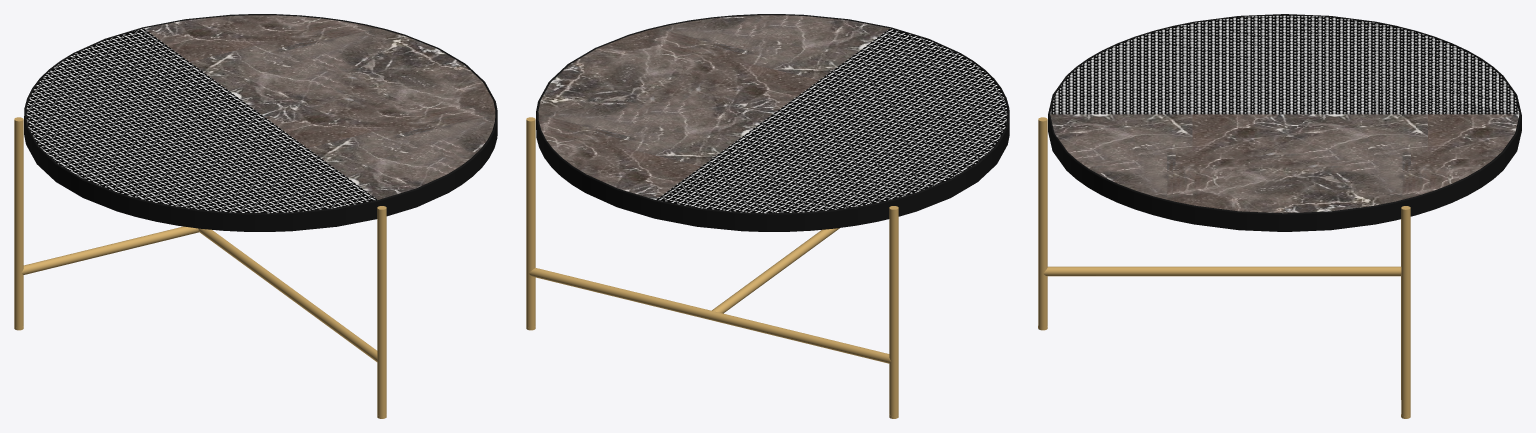
File: furnituretablescider-la-manufactureanato-le-table-basse.fbx
The picture shows the model from 3 angles, left to right: view 1: azimuth 30°, elevation 25°; view 2: azimuth 150°, elevation 25°; view 3: azimuth 270°, elevation 25°; orthographic projection.
Visible parts, largest first — view 1: L_368ec376_8933_4d13_a22a_0c214080808a_C1_I2, L_06294233_0481_4317_8166_74e4e58a44d9_C1_I1, L_9252d441_aeac_42b1_9a6f_2224356eb996_I5, L_479226c4_d389_412d_8de2_3b395ad03e7b_I3; view 2: L_368ec376_8933_4d13_a22a_0c214080808a_C1_I2, L_06294233_0481_4317_8166_74e4e58a44d9_C1_I1, L_9252d441_aeac_42b1_9a6f_2224356eb996_I5, L_479226c4_d389_412d_8de2_3b395ad03e7b_I3; view 3: L_06294233_0481_4317_8166_74e4e58a44d9_C1_I1, L_368ec376_8933_4d13_a22a_0c214080808a_C1_I2, L_9252d441_aeac_42b1_9a6f_2224356eb996_I5, L_479226c4_d389_412d_8de2_3b395ad03e7b_I3.
Part boxes in pixels (x1,y1,x2,y2): L_368ec376_8933_4d13_a22a_0c214080808a_C1_I2: [144, 15, 495, 199]; L_06294233_0481_4317_8166_74e4e58a44d9_C1_I1: [26, 28, 377, 213]; L_9252d441_aeac_42b1_9a6f_2224356eb996_I5: [24, 14, 497, 231]; L_479226c4_d389_412d_8de2_3b395ad03e7b_I3: [14, 117, 386, 416]; L_368ec376_8933_4d13_a22a_0c214080808a_C1_I2: [538, 15, 889, 199]; L_06294233_0481_4317_8166_74e4e58a44d9_C1_I1: [656, 28, 1007, 213]; L_9252d441_aeac_42b1_9a6f_2224356eb996_I5: [536, 14, 1009, 231]; L_479226c4_d389_412d_8de2_3b395ad03e7b_I3: [526, 117, 898, 416]; L_06294233_0481_4317_8166_74e4e58a44d9_C1_I1: [1050, 15, 1519, 114]; L_368ec376_8933_4d13_a22a_0c214080808a_C1_I2: [1050, 114, 1519, 213]; L_9252d441_aeac_42b1_9a6f_2224356eb996_I5: [1048, 14, 1521, 231]; L_479226c4_d389_412d_8de2_3b395ad03e7b_I3: [1038, 117, 1410, 416].
Size of the model in its own units: 800 by 816 by 400.
Materials: 4 (2 with a texture image).
